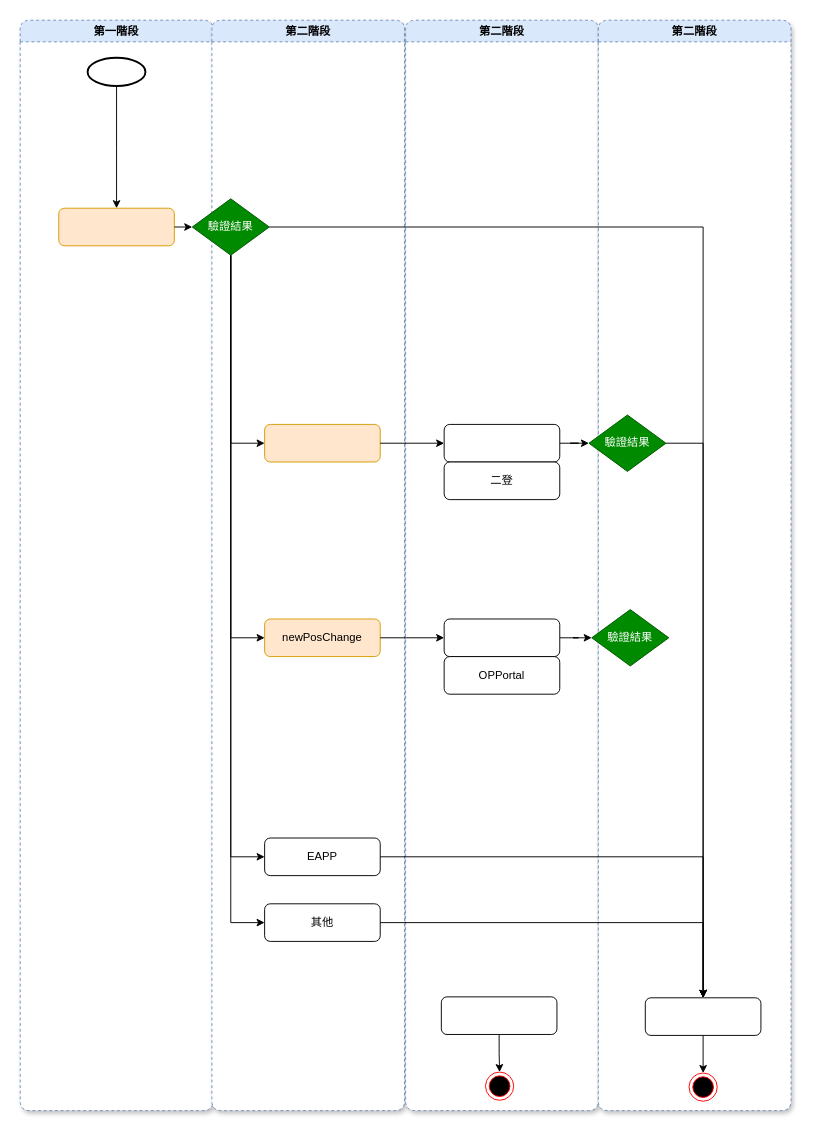
The diagram is 813 pixels wide and 1134 high, and some of its shapes have lost their labels. The shapes that lost their labels are listed below. From the top down, each one's centre as x and y in pixels, then its label:
(x=116, y=226): UWA+WS Server CWSService(2.0)
(x=322, y=442): inbu+uwc
(x=501, y=442): ADS
(x=501, y=637): Customer Portal
(x=498, y=1015): 換版成功
(x=702, y=1016): 退版作業
